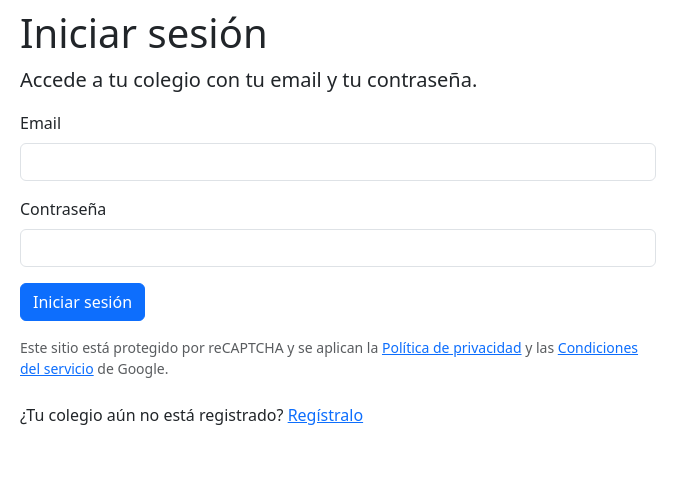
Scenario: LoginPage › the validation before sending › shows both required errors, accessible, when the empty form is sent
This screenshot has width=677, height=492.
Expected: the field labelled "Email" is shown, 20,143 -> 656,181
Click the button "Iniciar sesión" at x=82, y=302, box 20,283 -> 145,321
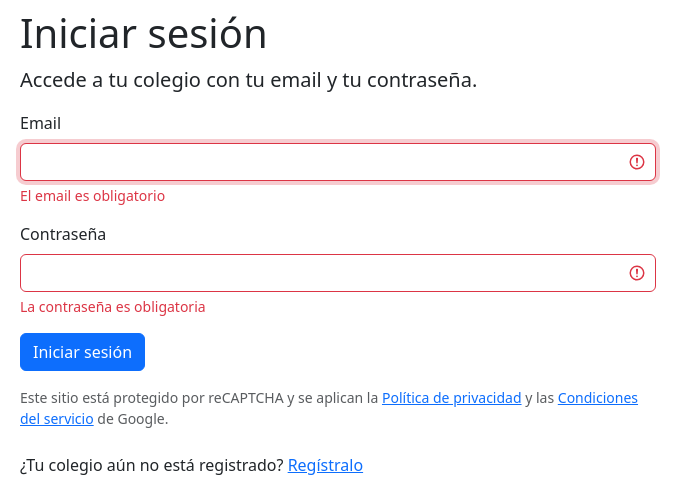
Result: the messages read "El email es obligatorio", "La contraseña es obligatoria", in this order at 20,186 -> 165,205; 20,297 -> 206,316
Result: the message "El email es obligatorio" is shown at 20,186 -> 165,205
Result: the message "La contraseña es obligatoria" is shown at 20,297 -> 206,316
